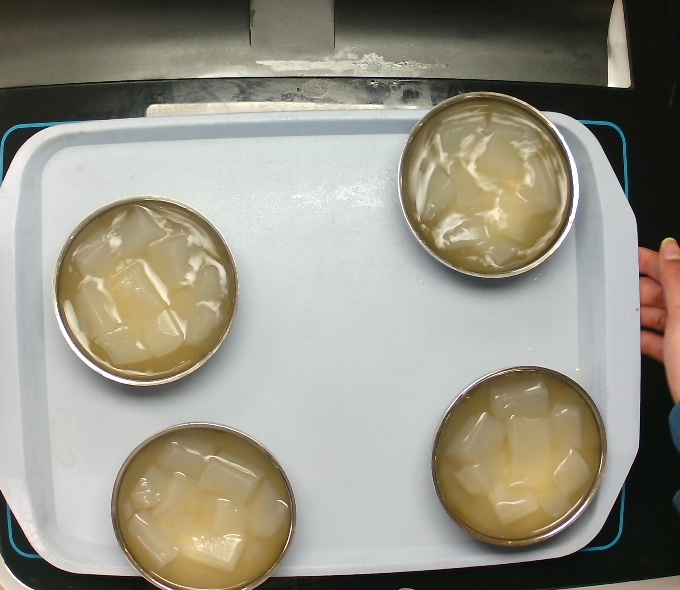wcq-YeGuoLi: (39, 193, 259, 386), (424, 360, 612, 553), (390, 98, 576, 275), (113, 421, 295, 583)
